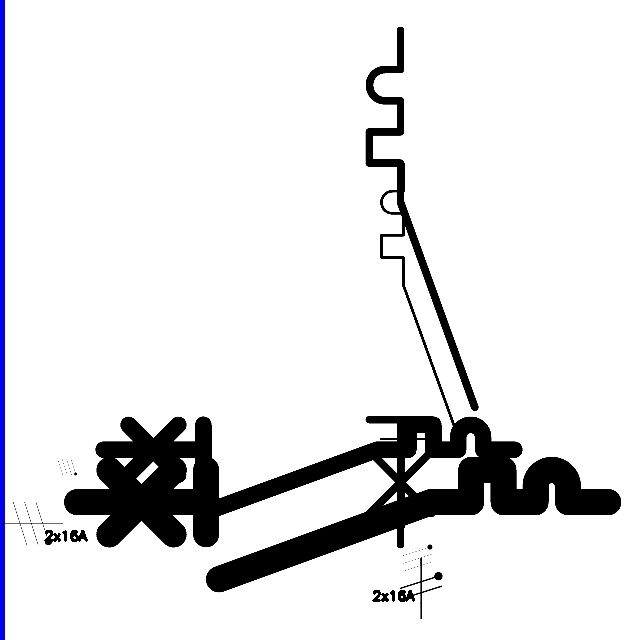interruptor_termomagnetico: (63, 456, 622, 592), (356, 17, 488, 558), (92, 414, 524, 519), (372, 154, 465, 536)
